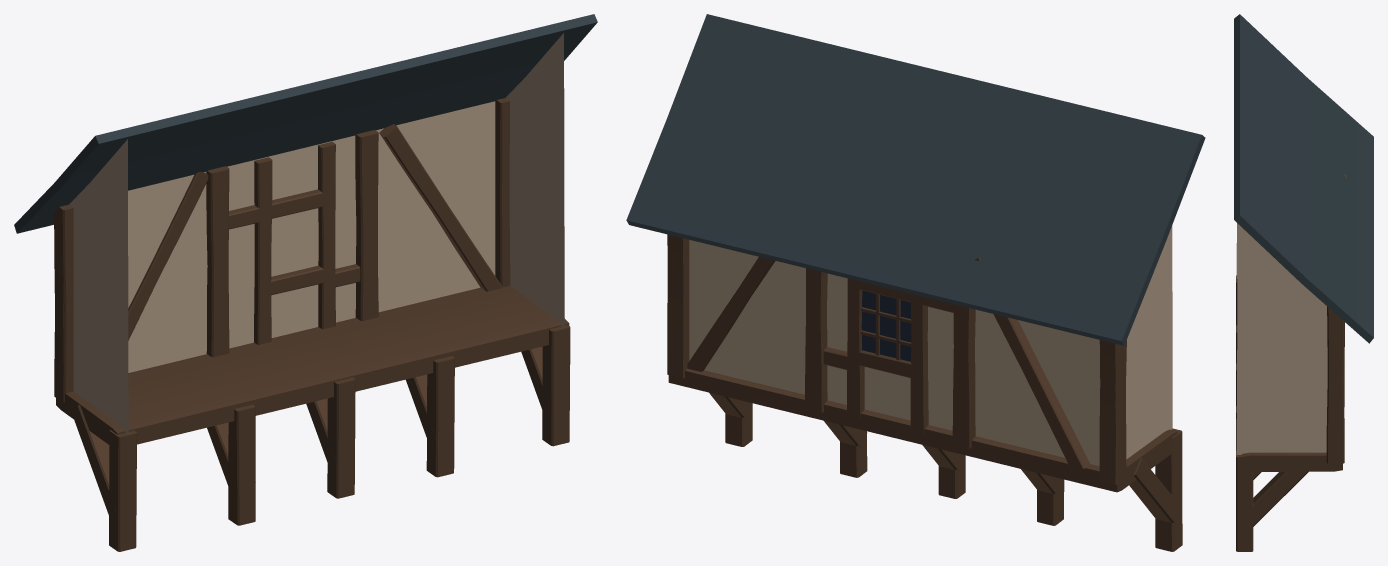
File: CornerRoofRoom.fbx
3 views of the same model, side by side, from view 1: azimuth 30°, elevation 25°; view 2: azimuth 150°, elevation 25°; view 3: azimuth 270°, elevation 25° (orthographic). The views are drawn at different scales.
Visible parts, largest first — view 1: Cube.011; view 2: Cube.011; view 3: Cube.011.
Boxes of the visible parts, x1,y1,x2,y2 form: Cube.011: [14, 14, 597, 551]; Cube.011: [626, 14, 1205, 551]; Cube.011: [1234, 14, 1373, 551].
Size of the model in its own units: 6.75 by 5.47 by 1.98.
